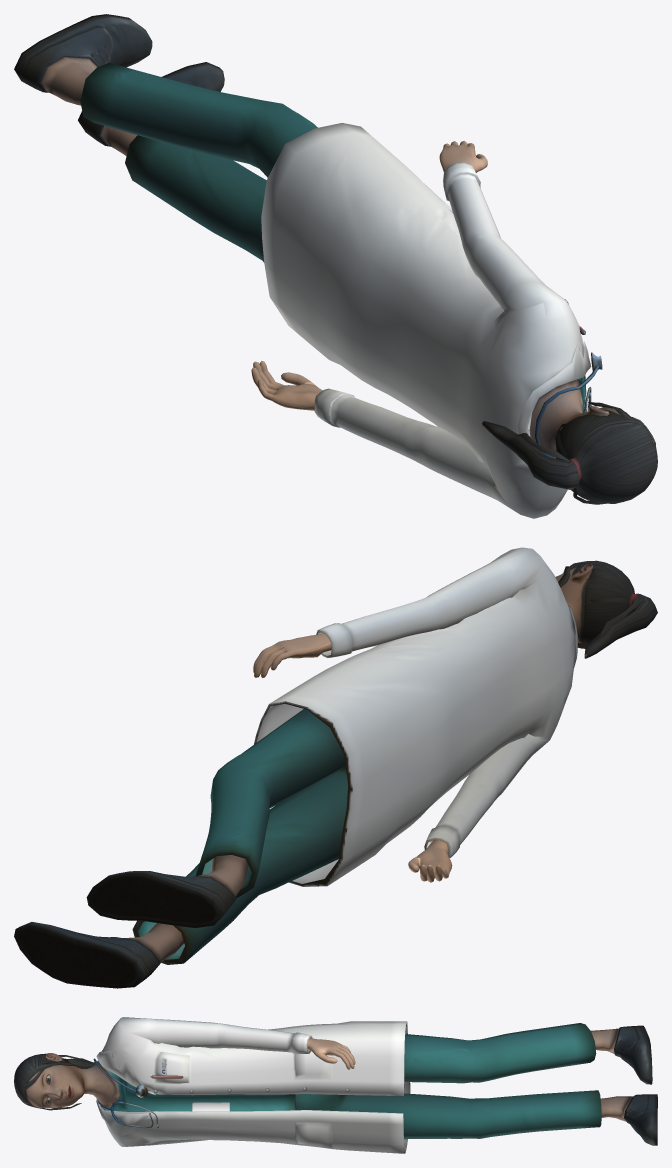
The model's file is walk.obj.
3 renders of one model, top to bottom at view 1: azimuth 30°, elevation 25°; view 2: azimuth 150°, elevation 25°; view 3: azimuth 270°, elevation 25°, orthographic. The views are drawn at different scales.
Size of the model in its own units: 0.4093 by 0.3975 by 1.71.
Materials: 1 (1 with a texture image).
